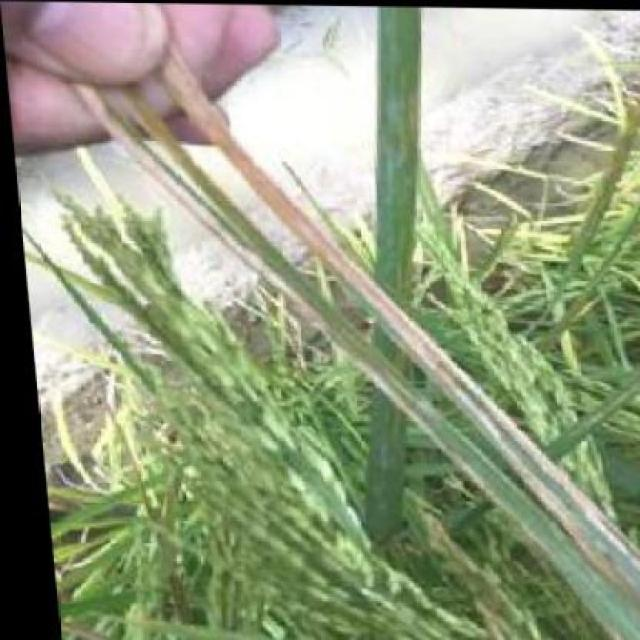Brown_Spot: (196, 61, 452, 365), (558, 488, 640, 640)
